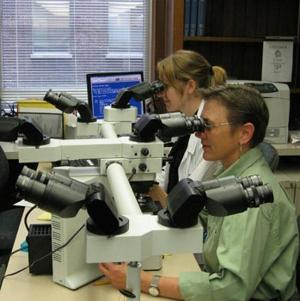person: (98, 85, 298, 301)
